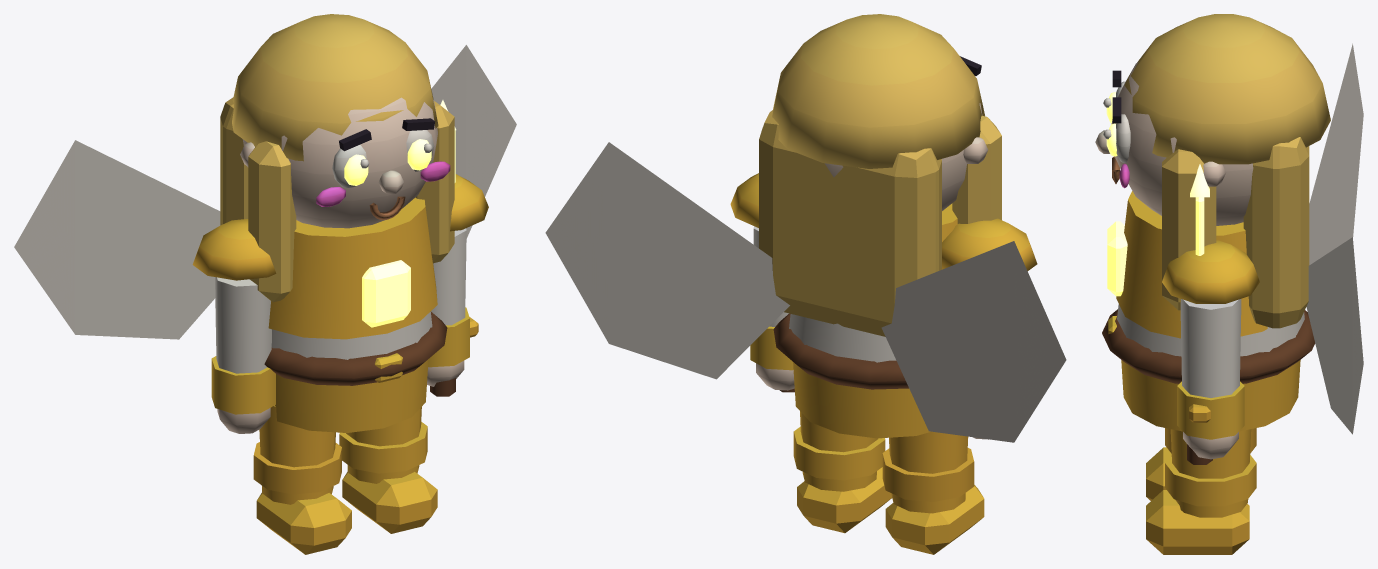
File: hero_seraph.glb
The picture shows the model from 3 angles, left to right: view 1: azimuth 30°, elevation 25°; view 2: azimuth 150°, elevation 25°; view 3: azimuth 270°, elevation 25°; orthographic projection. The views are drawn at different scales.
Visible parts, largest first — view 1: body_t0_palette, arml_t0_palette, legl_t0_palette, legr_t0_palette, armr_t0_palette, body_t0_glow_gold; view 2: body_t0_palette, legl_t0_palette, legr_t0_palette, armr_t0_palette, arml_t0_palette; view 3: body_t0_palette, armr_t0_palette, legr_t0_palette, body_t0_glow_gold, legl_t0_palette, armr_t0_glow_gold.
Boxes of the visible parts, x1,y1,x2,y2 form: body_t0_palette: [14, 14, 516, 432]; arml_t0_palette: [192, 219, 276, 433]; legl_t0_palette: [253, 405, 351, 554]; legr_t0_palette: [339, 407, 437, 533]; armr_t0_palette: [427, 174, 488, 396]; body_t0_glow_gold: [344, 139, 431, 327]; body_t0_palette: [545, 14, 1066, 442]; legl_t0_palette: [882, 431, 984, 554]; legr_t0_palette: [793, 411, 891, 533]; armr_t0_palette: [730, 173, 794, 392]; arml_t0_palette: [942, 218, 1037, 439]; body_t0_palette: [1095, 14, 1363, 434]; armr_t0_palette: [1162, 240, 1259, 464]; legr_t0_palette: [1146, 429, 1256, 554]; body_t0_glow_gold: [1106, 92, 1127, 296]; legl_t0_palette: [1146, 428, 1256, 500]; armr_t0_glow_gold: [1190, 164, 1209, 255].
Bounding box in the file's own units: 0.54 × 0.508 × 0.246.
